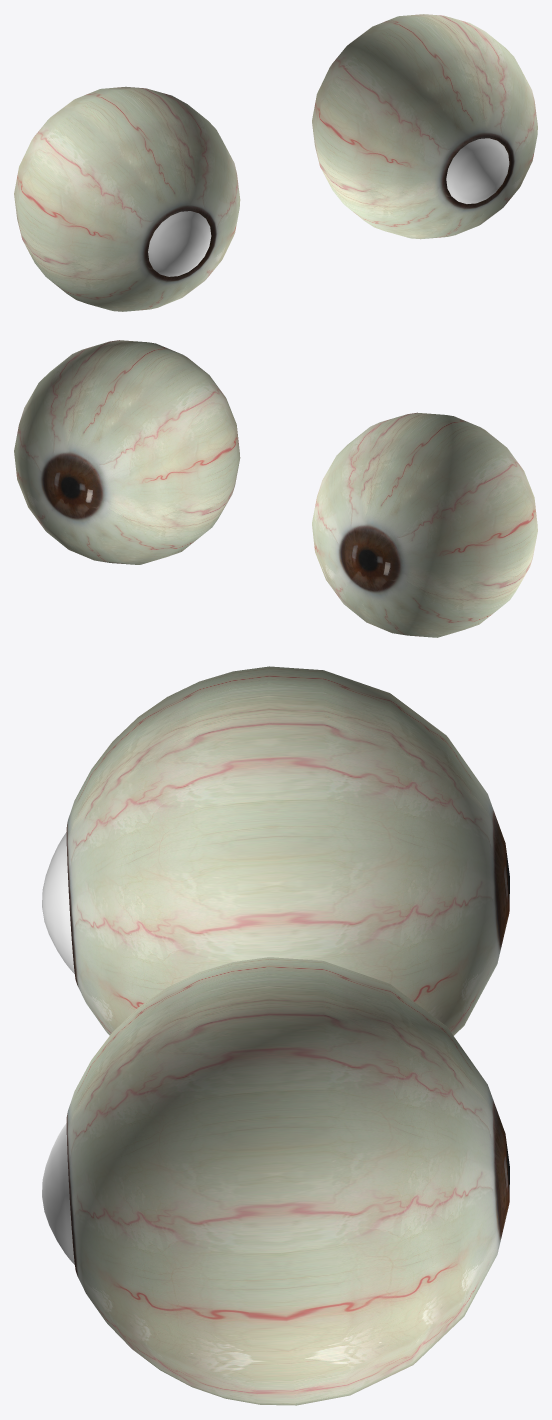
File: Kids_Eyes.fbx
3 renders of one model, top to bottom at view 1: azimuth 30°, elevation 25°; view 2: azimuth 150°, elevation 25°; view 3: azimuth 270°, elevation 25°, orthographic. The views are drawn at different scales.
Parts seen in each view (by area): view 1: KidsEyes; view 2: KidsEyes; view 3: KidsEyes.
Boxes of the visible parts, x1=… form: KidsEyes: x1=14, y1=14, x2=537, y2=311; KidsEyes: x1=14, y1=340, x2=537, y2=637; KidsEyes: x1=42, y1=666, x2=509, y2=1405.
Size of the model in its own units: 7.51 by 2.97 by 3.08.
